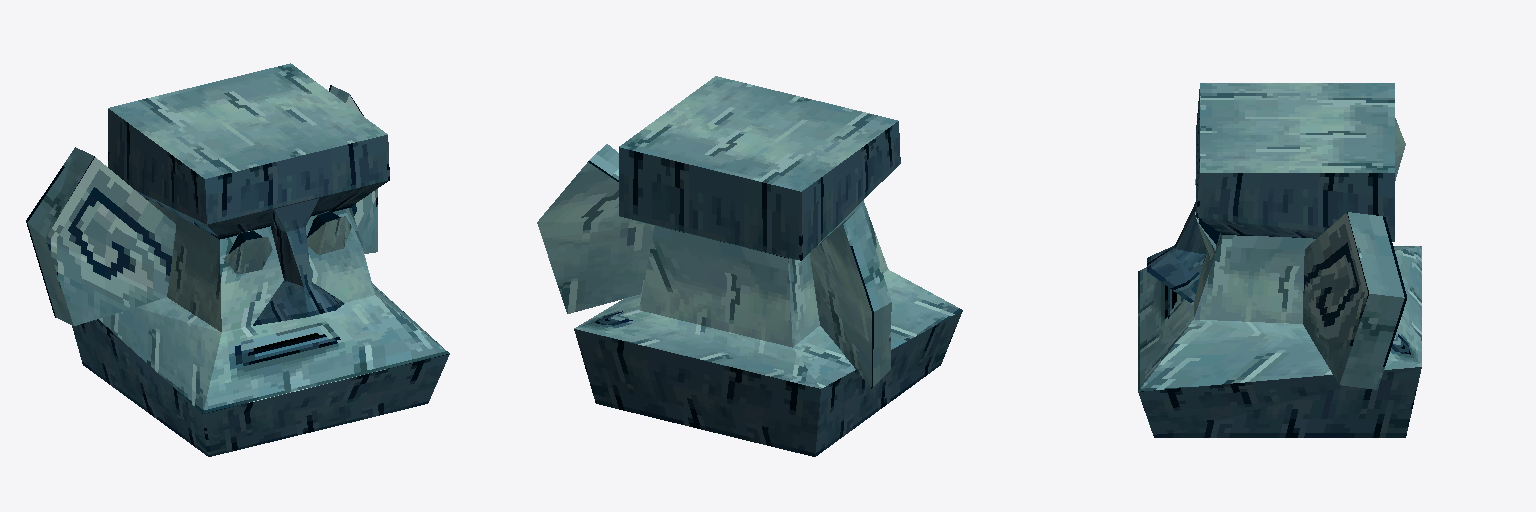
The picture shows the model from 3 angles: view 1: azimuth 30°, elevation 25°; view 2: azimuth 150°, elevation 25°; view 3: azimuth 270°, elevation 25°; orthographic projection.
Visible parts, largest first — view 1: Object_1; view 2: Object_1; view 3: Object_1.
Part boxes in pixels (left/top/right/bottom): Object_1: left=26, top=63, right=449, bottom=456; Object_1: left=537, top=76, right=962, bottom=456; Object_1: left=1138, top=83, right=1421, bottom=437.
Size of the model in its own units: 1.36 by 0.9999 by 1.
1 materials, 1 textured.